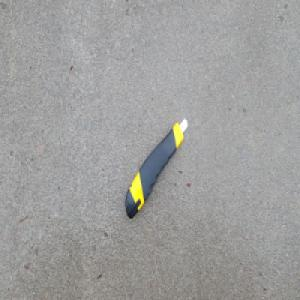Cutter: (124, 116, 189, 221)
